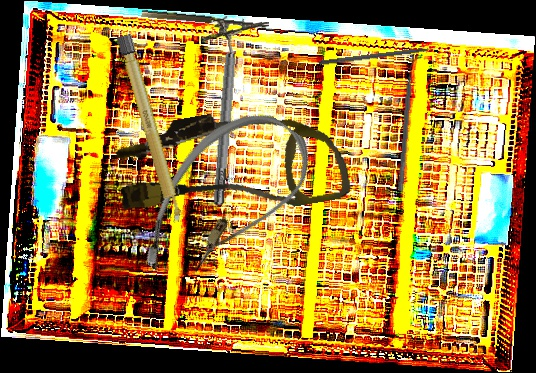Cannula: (122, 89, 327, 312), (109, 92, 353, 236)
Fixation Ring: (202, 15, 249, 207)
Hook Surgical: (319, 45, 445, 67)
Needle Holder: (139, 8, 270, 48)
Scalpel Handle: (115, 33, 185, 225)
Spatula Surgical: (397, 57, 419, 192)
